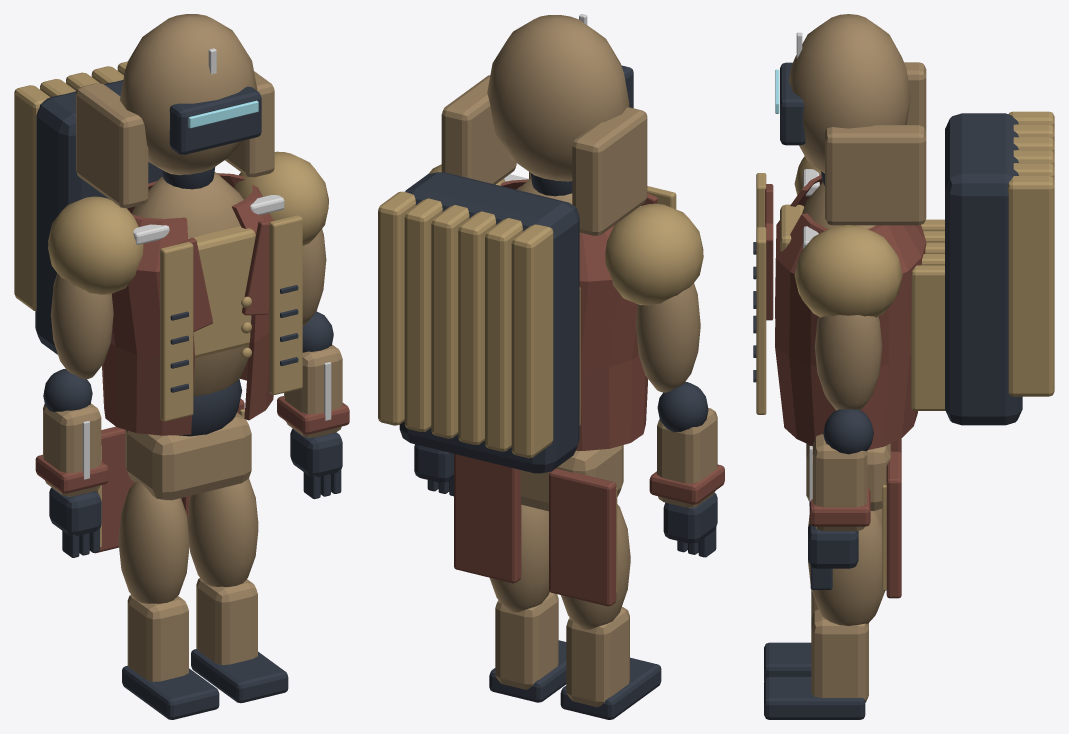
File: librarian.glb
3 renders of one model, left to right at view 1: azimuth 30°, elevation 25°; view 2: azimuth 150°, elevation 25°; view 3: azimuth 270°, elevation 25°, orthographic. The views are drawn at different scales.
Parts seen in each view (by area): view 1: Archivist vestments, Helmet, Pelvis, Archive tower backpack, High scholar collar, Shoulder R, Thigh R, Thigh L, Articulated thorax, Sternum shield, Archivist long stole.001, Archivist long stole (+26 smaller); view 2: Helmet, Archive tower backpack, Archivist vestments, Oversize archival folio, Archivist vestments articulated skirt R, Archivist vestments articulated skirt L, Shoulder R, High scholar collar, Oversize archival folio.004, Oversize archival folio.003, Oversize archival folio.005, Oversize archival folio.001 (+16 smaller); view 3: Archive tower backpack, Archivist vestments, Helmet, Oversize archival folio.005, High scholar collar.001, Shoulder L, Upper arm L, Archive folio 4, Shin L, Thigh L, Bracer L, Foot L (+20 smaller).
Part boxes in pixels (<box>): Archivist vestments: <box>102,173,273,435</box>; Helmet: <box>120,14,257,175</box>; Pelvis: <box>125,413,251,500</box>; Archive tower backpack: <box>35,80,162,354</box>; High scholar collar: <box>76,83,148,208</box>; Shoulder R: <box>48,196,143,294</box>; Thigh R: <box>118,481,189,603</box>; Thigh L: <box>187,479,258,586</box>; Articulated thorax: <box>132,172,249,396</box>; Sternum shield: <box>188,225,255,357</box>; Archivist long stole.001: <box>269,215,302,394</box>; Archivist long stole: <box>160,242,193,421</box>; Helmet: <box>487,15,629,181</box>; Archive tower backpack: <box>399,172,579,473</box>; Archivist vestments: <box>500,179,648,450</box>; Oversize archival folio: <box>511,224,553,458</box>; Archivist vestments articulated skirt R: <box>549,468,616,606</box>; Archivist vestments articulated skirt L: <box>454,454,521,583</box>; Shoulder R: <box>605,203,703,305</box>; High scholar collar: <box>572,107,647,235</box>; Oversize archival folio.004: <box>404,198,442,431</box>; Oversize archival folio.003: <box>431,205,469,438</box>; Oversize archival folio.005: <box>378,191,415,425</box>; Oversize archival folio.001: <box>485,218,522,451</box>; Archive tower backpack: <box>945,113,1022,425</box>; Archivist vestments: <box>775,175,926,449</box>; Helmet: <box>789,14,910,173</box>; Oversize archival folio.005: <box>1007,176,1054,396</box>; High scholar collar.001: <box>825,125,926,225</box>; Shoulder L: <box>794,225,902,317</box>; Upper arm L: <box>814,315,882,410</box>; Archive folio 4: <box>911,265,945,410</box>; Shin L: <box>811,609,868,702</box>; Thigh L: <box>808,510,884,625</box>; Bracer L: <box>813,434,867,531</box>; Foot L: <box>764,677,865,719</box>.
Size of the model in its own units: 1 by 2.2 by 0.892.
